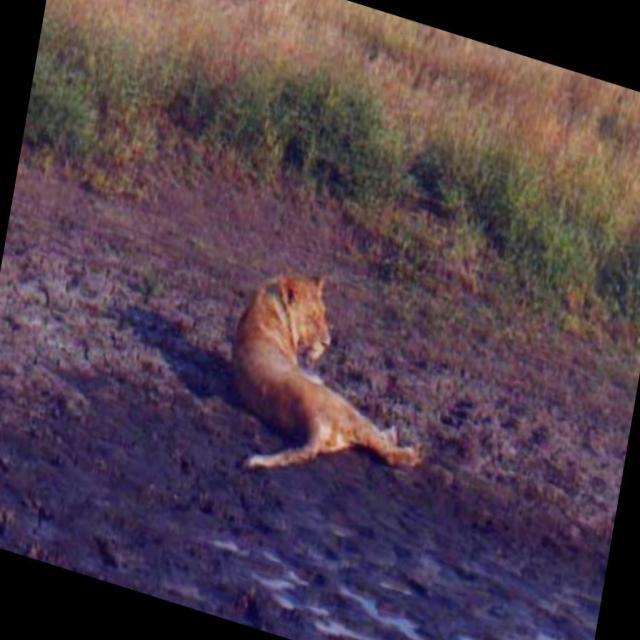Lion: (215, 250, 448, 520)
